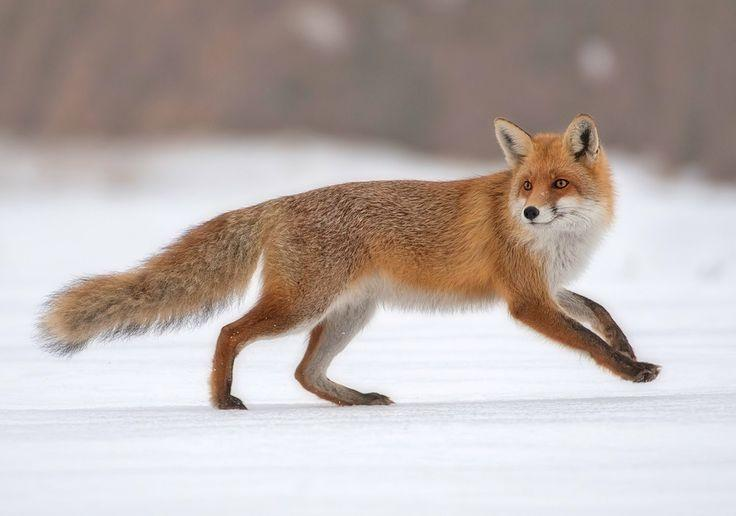fox: (42, 116, 666, 413)
